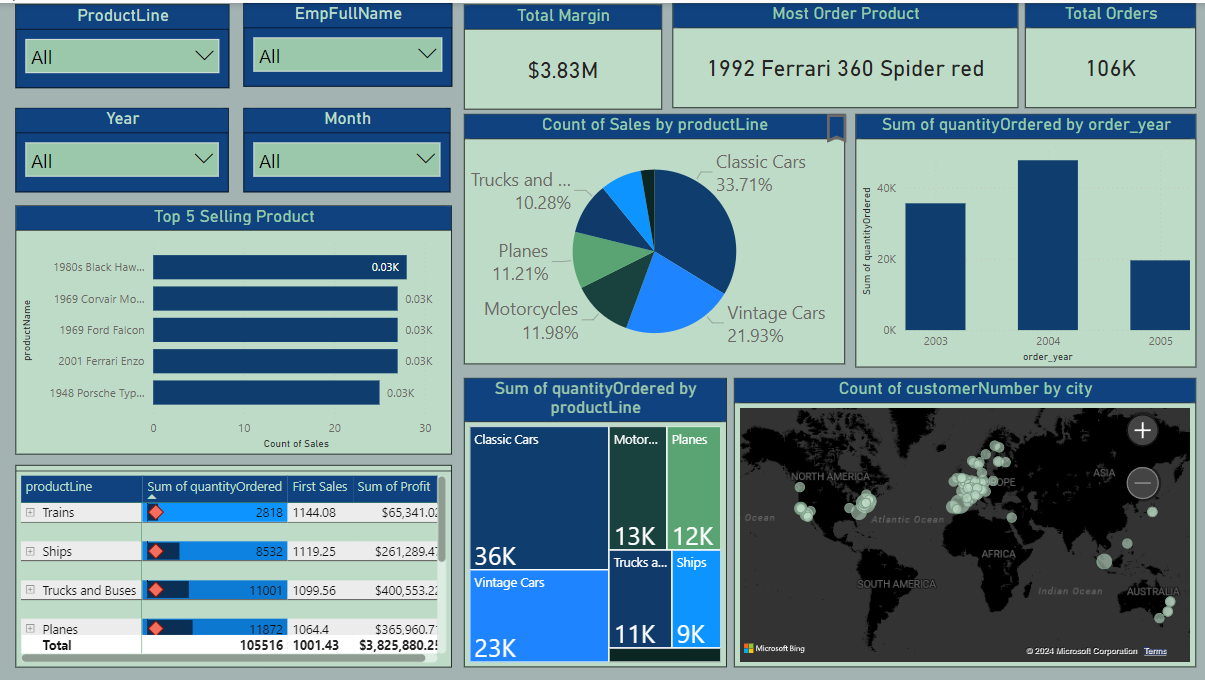

This screenshot's page, from the dashboard's own definition file:
{"tool":"powerbi","page":{"name":"classic_model_dashboard","canvas":[1280,720],"ordinal":0},"visuals":[{"type":"card","title":"Total Margin","fields":{"Values":["Order_Details.total_profit"]},"box":[493.2,1.9,209.8,111.5],"z":0},{"type":"card","title":"Most Order Product","fields":{"Values":["Order_Details.MostOrderedProduct"]},"box":[714.3,0,366.6,111.5],"z":1000},{"type":"barChart","title":"Top 5 Selling Product","fields":{"Category":["Products_Table.productName"],"Y":["Order_Details.Sales"]},"box":[17.5,214.7,462.9,264],"z":2000},{"type":"pieChart","fields":{"Category":["Productslines_Table.productLine"],"Y":["Order_Details.Sales"]},"box":[493.1,117.7,404,265.6],"z":3000},{"type":"pivotTable","fields":{"Rows":["Productslines_Table.productLine","Products_Table.productName"],"Values":["Order_Details.quantityOrdered","Order_Details.Sales","Order_Details.Profit"]},"box":[17.5,489.9,462.9,214.7],"z":4000},{"type":"slicer","title":"ProductLine","fields":{"Values":["Productslines_Table.productLine"]},"box":[17,1.9,226.8,88.8],"z":5000},{"type":"card","title":"Total Orders","fields":{"Values":["Order_Details.quantityOrdered"]},"box":[1088.5,0,181.4,111.5],"z":6000},{"type":"map","fields":{"Category":["Customer Table.city"],"Size":["Customer Table.customerNumber"]},"box":[779.4,397.7,489.9,307],"z":7000},{"type":"treemap","fields":{"Group":["Productslines Table.productLine"],"Values":["Order_Details.quantityOrdered"]},"box":[493.1,397.7,278.4,307],"z":8000},{"type":"columnChart","fields":{"Y":["Order_Details.quantityOrdered"],"Category":["Orders.order_year"]},"box":[908.2,117.7,361.1,268.8],"z":9000},{"type":"slicer","title":"Year","fields":{"Values":["Customer_Table.city"]},"box":[17.5,111.3,225.9,89.1],"z":10000},{"type":"slicer","title":"EmpFullName","fields":{"Values":["Employees_Table.FullName"]},"box":[258.9,0,221.1,88.8],"z":11000},{"type":"slicer","title":"Month","fields":{"Values":["Orders.Month Name"]},"box":[259.3,111.3,219.5,89.1],"z":12000},{"type":"actionButton","box":[868.5,112.9,100.2,39.8],"z":13000}]}

Visuals, with their boxes in screenshot pixels (x1, y1, x2, y2), scaled from the page's 1280x720 canvas onto the 1205x680 screenshot:
"Total Margin" card: pyautogui.locateOnScreen(464, 2, 662, 107)
"Most Order Product" card: pyautogui.locateOnScreen(672, 0, 1018, 105)
"Top 5 Selling Product" barChart: pyautogui.locateOnScreen(16, 203, 452, 452)
pieChart - Productslines_Table.productLine x Order_Details.Sales: pyautogui.locateOnScreen(464, 111, 845, 362)
pivotTable - Productslines_Table.productLine x Products_Table.productName: pyautogui.locateOnScreen(16, 463, 452, 665)
"ProductLine" slicer: pyautogui.locateOnScreen(16, 2, 230, 86)
"Total Orders" card: pyautogui.locateOnScreen(1025, 0, 1195, 105)
map - Customer Table.city x Customer Table.customerNumber: pyautogui.locateOnScreen(734, 376, 1195, 666)
treemap - Productslines Table.productLine x Order_Details.quantityOrdered: pyautogui.locateOnScreen(464, 376, 726, 666)
columnChart - Order_Details.quantityOrdered x Orders.order_year: pyautogui.locateOnScreen(855, 111, 1195, 365)
"Year" slicer: pyautogui.locateOnScreen(16, 105, 229, 189)
"EmpFullName" slicer: pyautogui.locateOnScreen(244, 0, 452, 84)
"Month" slicer: pyautogui.locateOnScreen(244, 105, 451, 189)
actionButton: pyautogui.locateOnScreen(818, 107, 912, 144)
